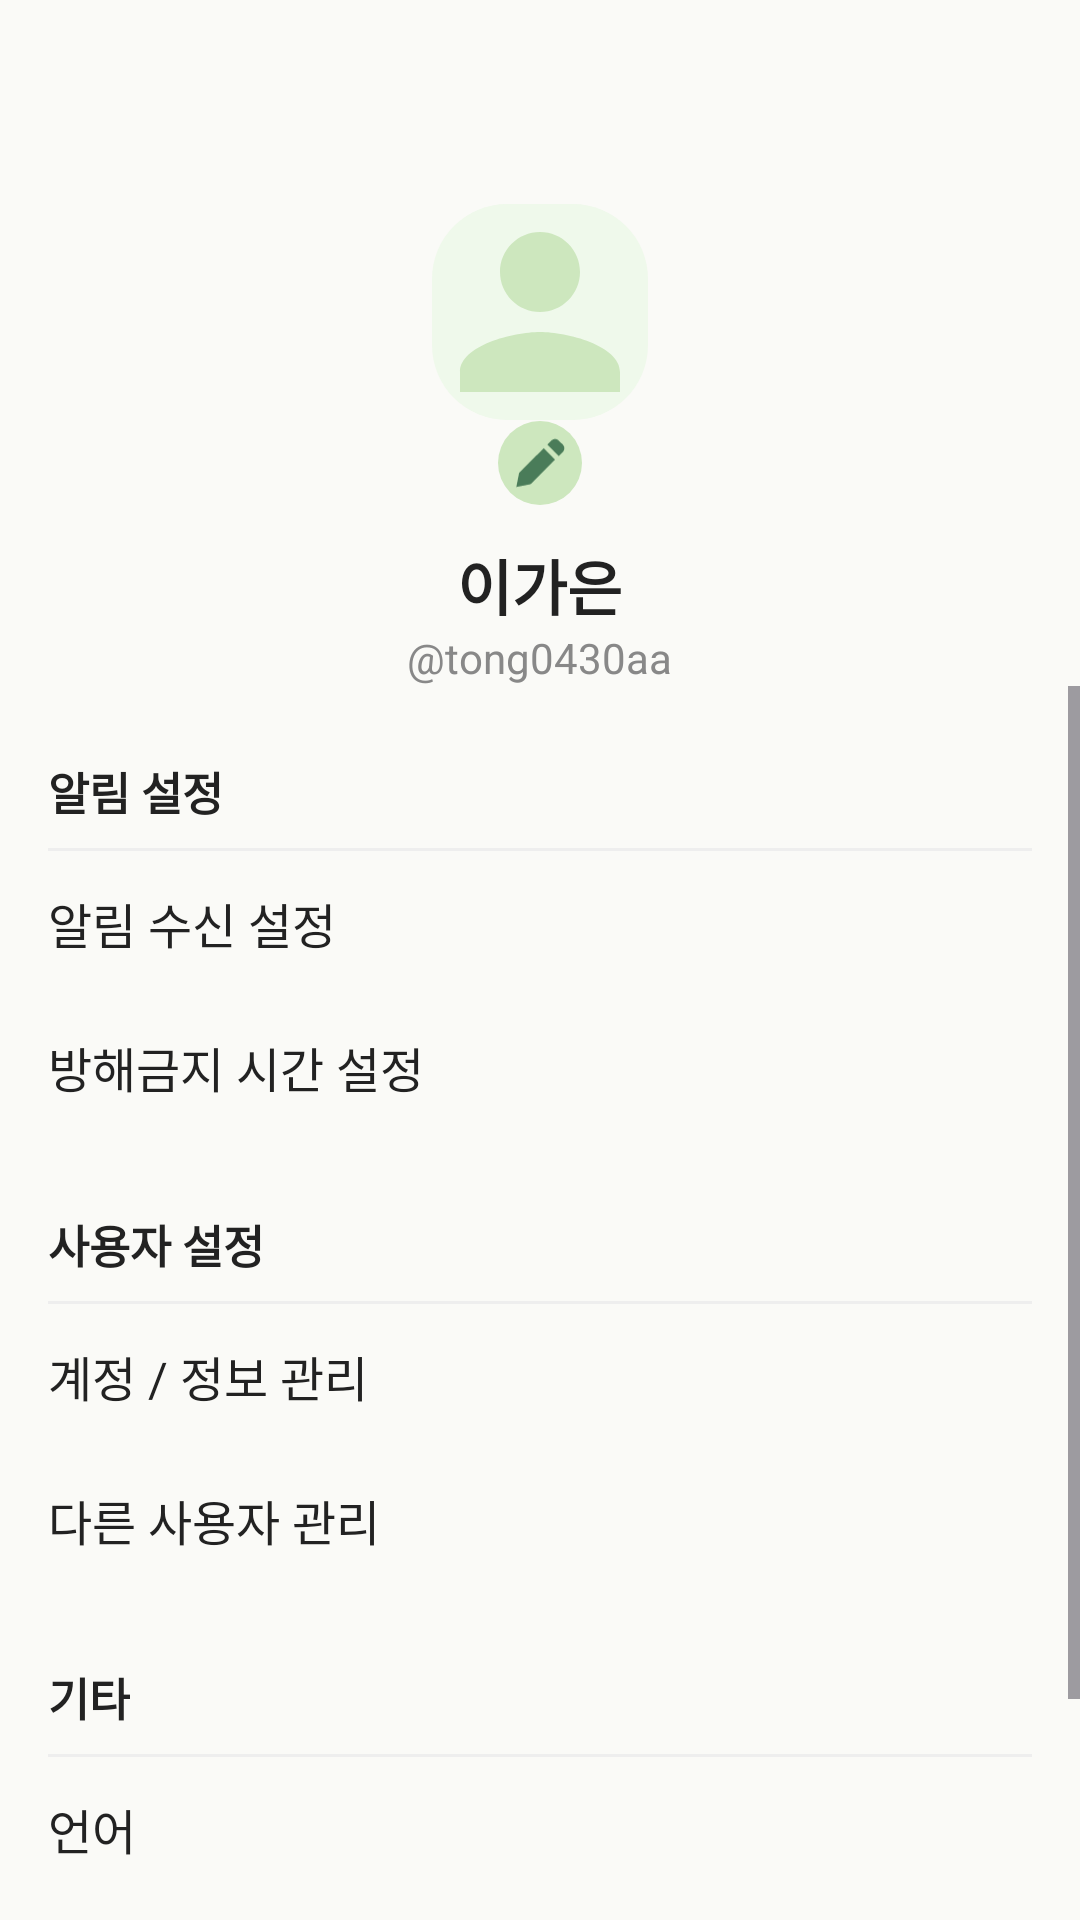

Where icons sit on this 1080x1920 app screen, as (x1, y1, x2, y2):
edit: (498, 421, 582, 505)
profile: (460, 232, 620, 392)
